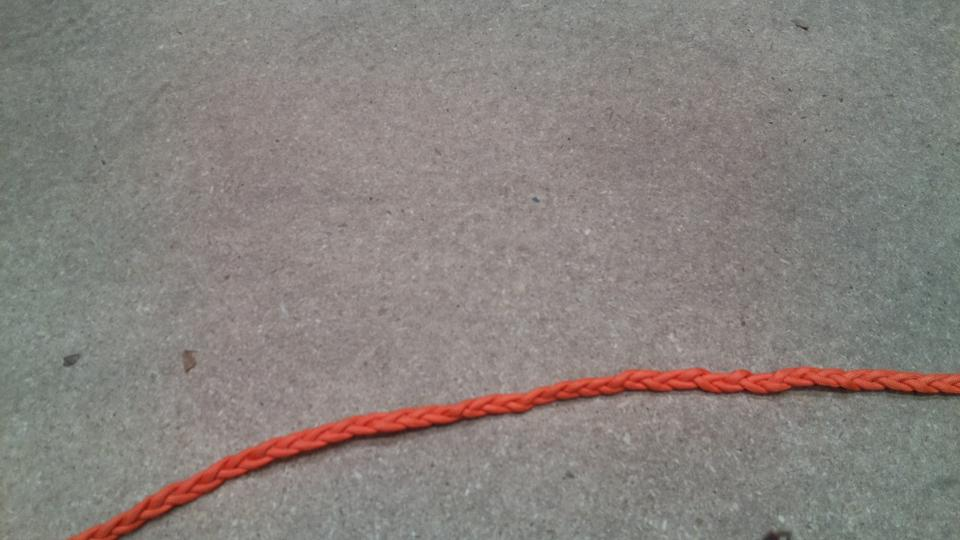rope: (86, 363, 960, 540)
